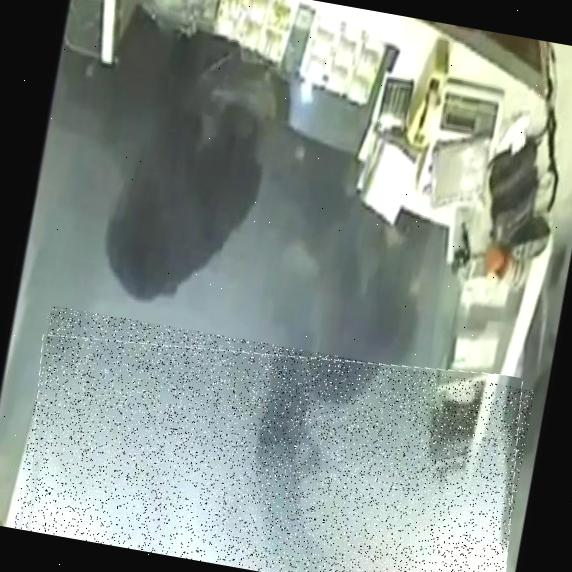smoke: (12, 305, 534, 572)
